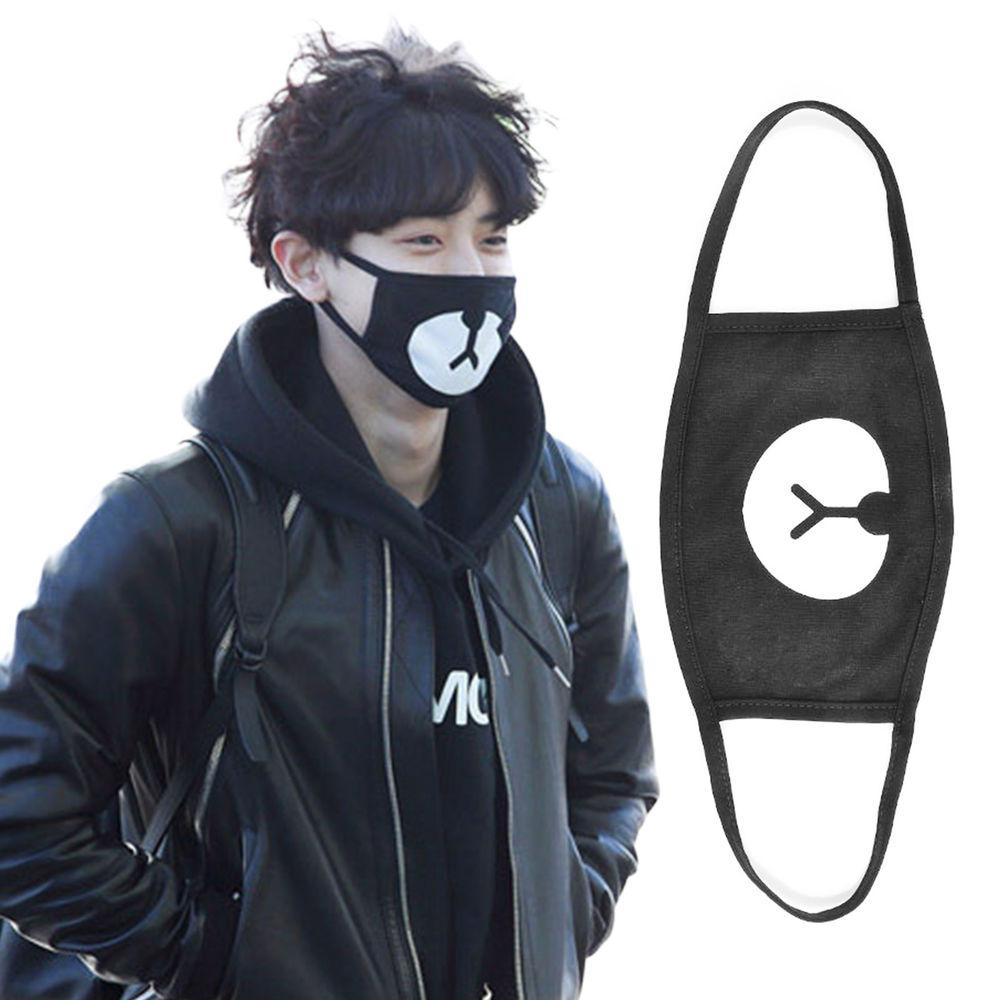Wearing Mask: (209, 28, 574, 468)
